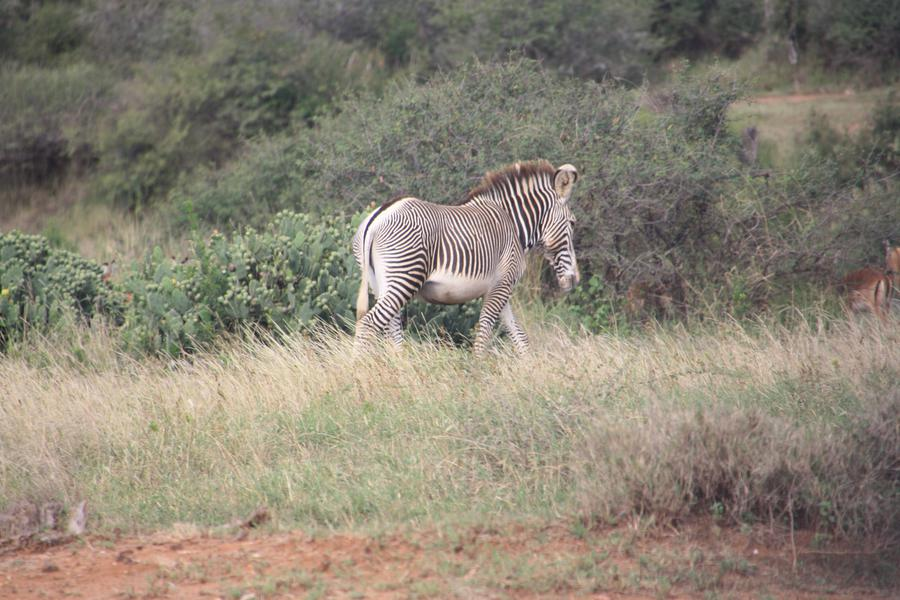zebra_grevys: (353, 182, 521, 288)
